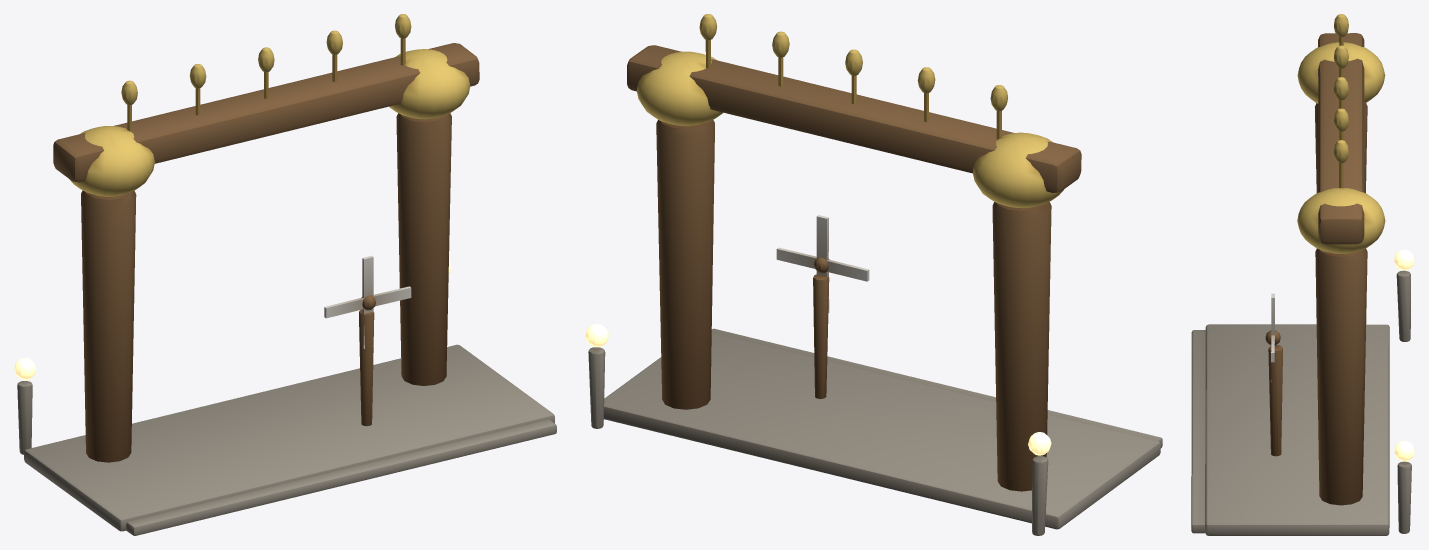
3 views of the same model, side by side, from view 1: azimuth 30°, elevation 25°; view 2: azimuth 150°, elevation 25°; view 3: azimuth 270°, elevation 25° (orthographic). The views are drawn at different scales.
Parts seen in each view (by area): view 1: gate_c4aa5ccf; view 2: gate_c4aa5ccf; view 3: gate_c4aa5ccf.
Part boxes in pixels (left/top/right/bottom): gate_c4aa5ccf: left=14, top=14, right=556, bottom=535; gate_c4aa5ccf: left=585, top=14, right=1162, bottom=535; gate_c4aa5ccf: left=1191, top=14, right=1414, bottom=535.
Size of the model in its own units: 5.42 by 4.53 by 2.54.
